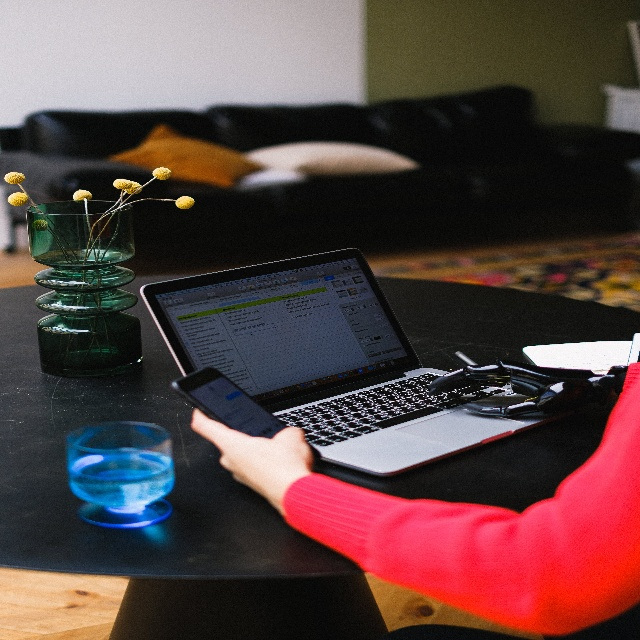Sin_guantes: (190, 408, 315, 510)
